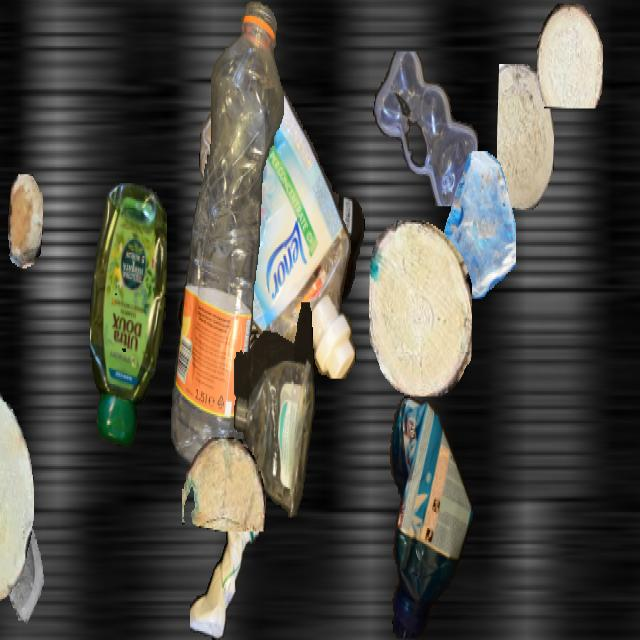glass: (433, 151, 515, 297), (0, 502, 57, 636), (0, 512, 3, 622)
plastic: (171, 2, 283, 471), (198, 71, 358, 377), (177, 197, 365, 439), (384, 393, 472, 638), (90, 183, 166, 446), (234, 302, 316, 519), (373, 52, 479, 205), (190, 489, 258, 638)
wood: (369, 220, 471, 394), (497, 64, 553, 210), (182, 437, 266, 530), (0, 388, 33, 604), (537, 3, 603, 106), (8, 174, 42, 267)
